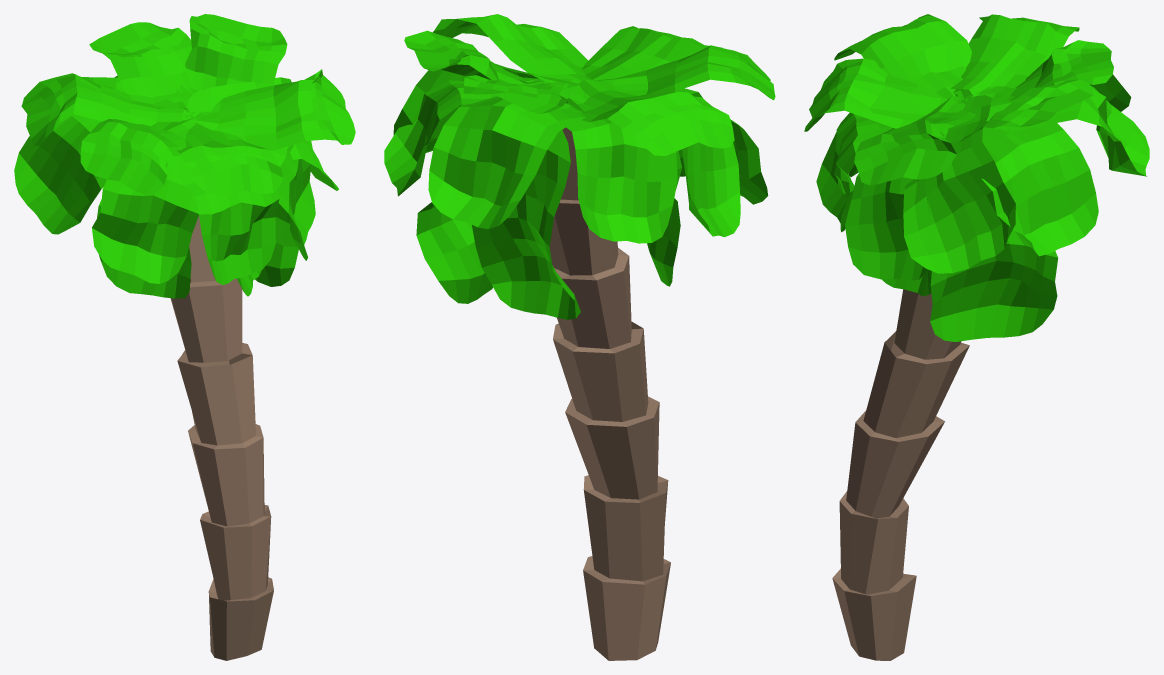
Rendered from Coqueiro.fbx.
3 renders of one model, left to right at view 1: azimuth 30°, elevation 25°; view 2: azimuth 150°, elevation 25°; view 3: azimuth 270°, elevation 25°, orthographic. The views are drawn at different scales.
Parts seen in each view (by area): view 1: Plane.018; view 2: Plane.018; view 3: Plane.018.
Part boxes in pixels (x1,y1,x2,y2): Plane.018: (14, 14, 355, 660); Plane.018: (384, 14, 775, 660); Plane.018: (804, 14, 1149, 660).
Bounding box in the file's own units: 1000 × 1883 × 985.
